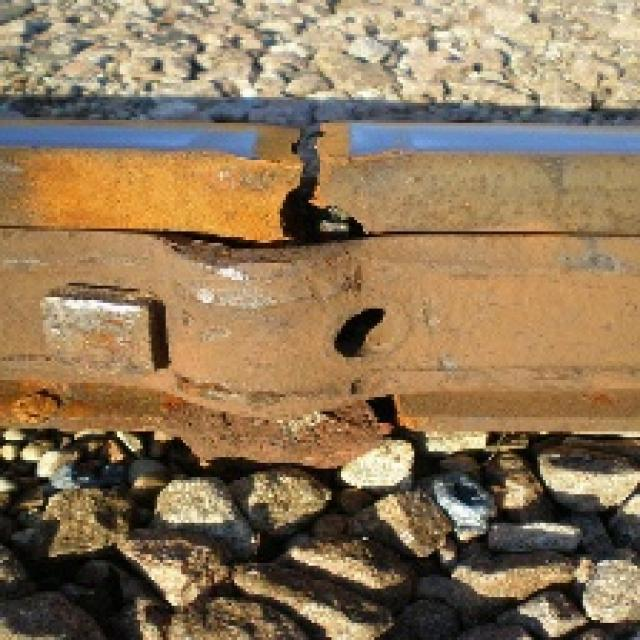Defective Joint: (8, 73, 640, 537)
